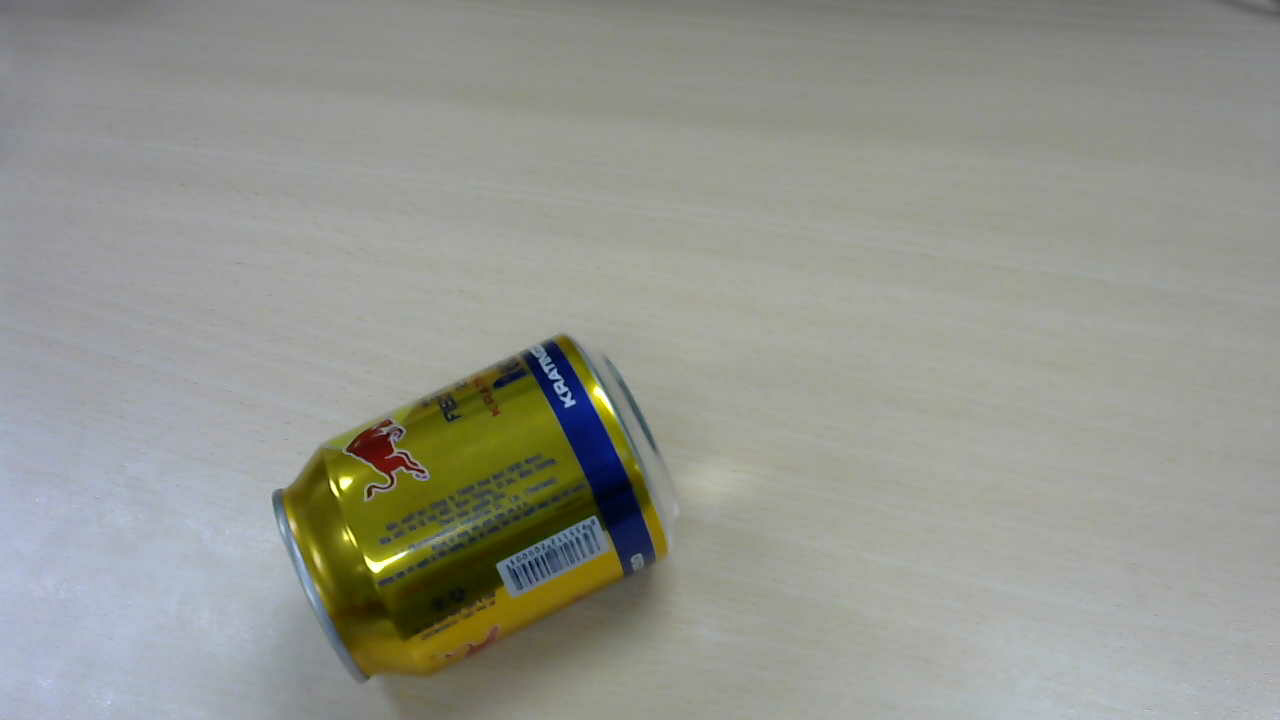Red_Bull: (271, 328, 670, 681)
